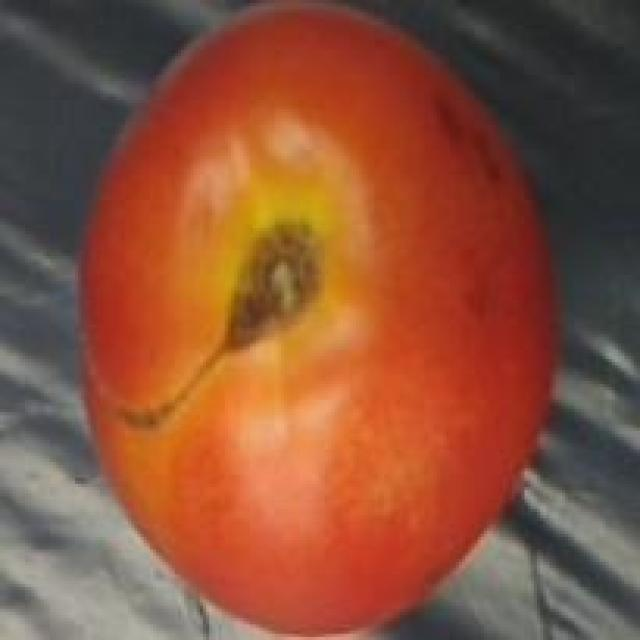overripe tomato: (62, 3, 574, 640)
